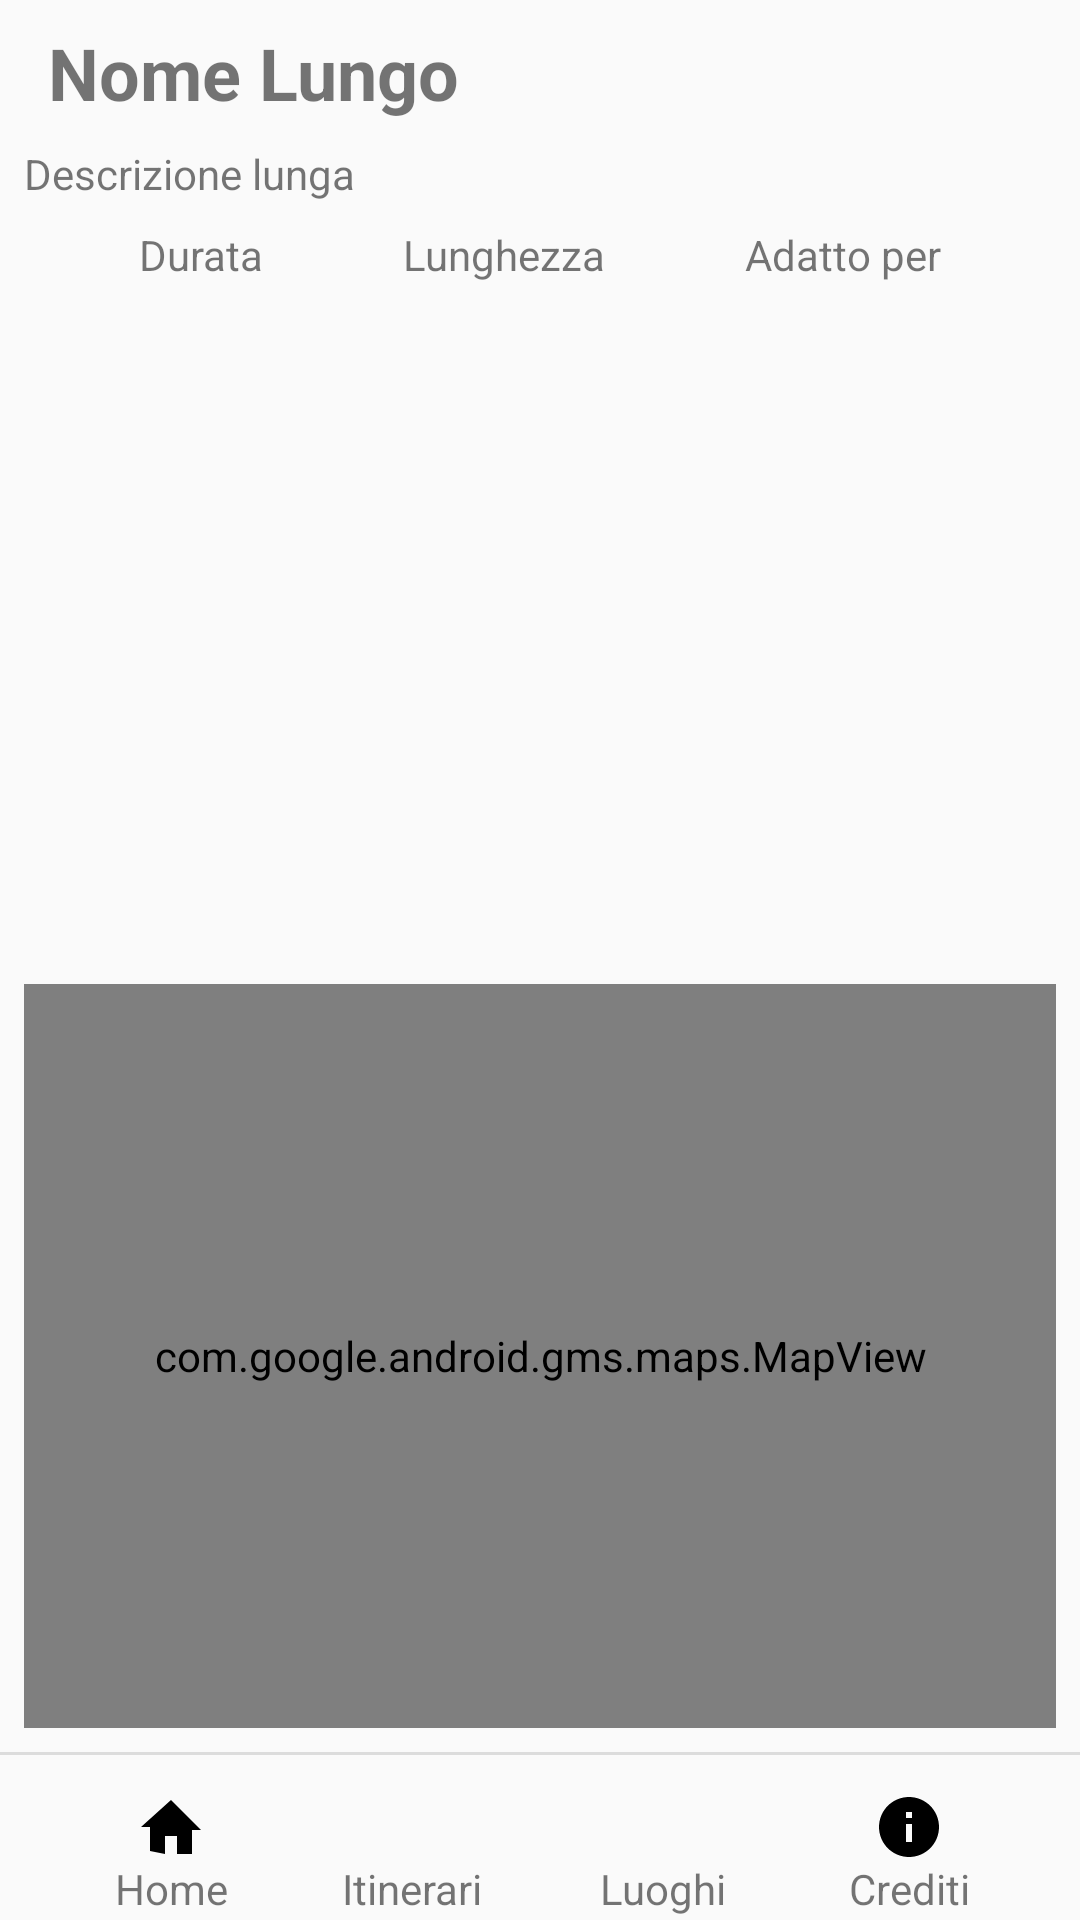

Icon bounding boxes for this 1080*1920 phone screenshot, format (x1, y1, x2, y2):
info: (851, 1797, 968, 1902)
